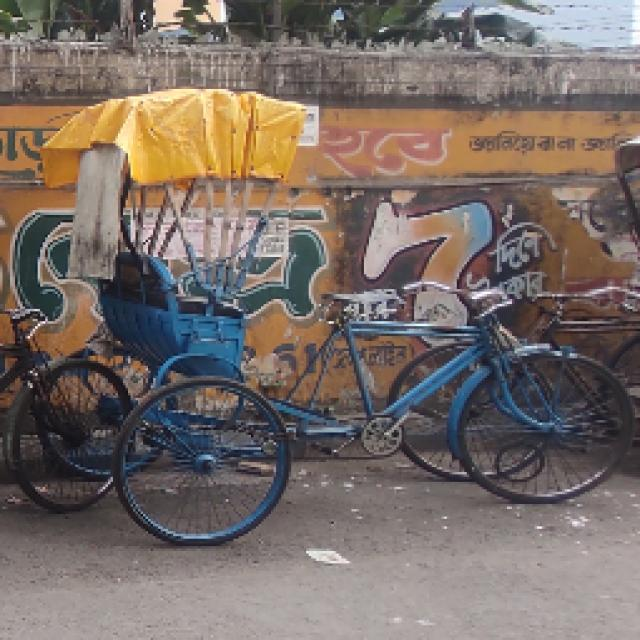rickshaw: (43, 77, 629, 553)
